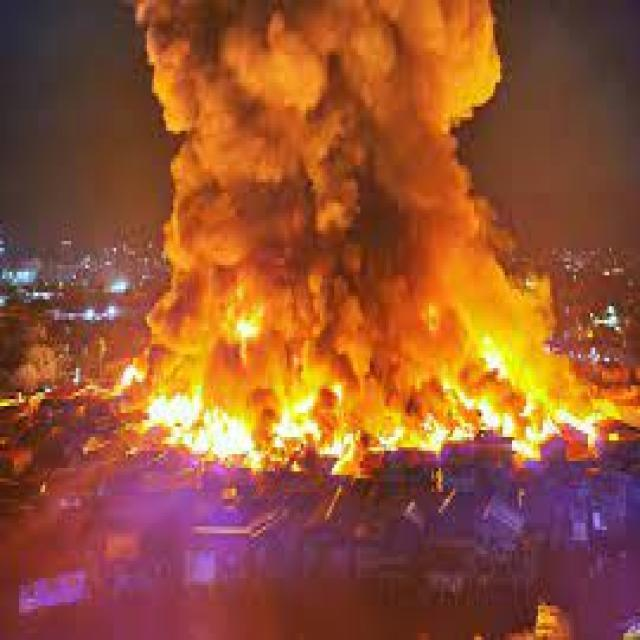Fire: (134, 332, 626, 468)
Smoke: (131, 0, 516, 325)
